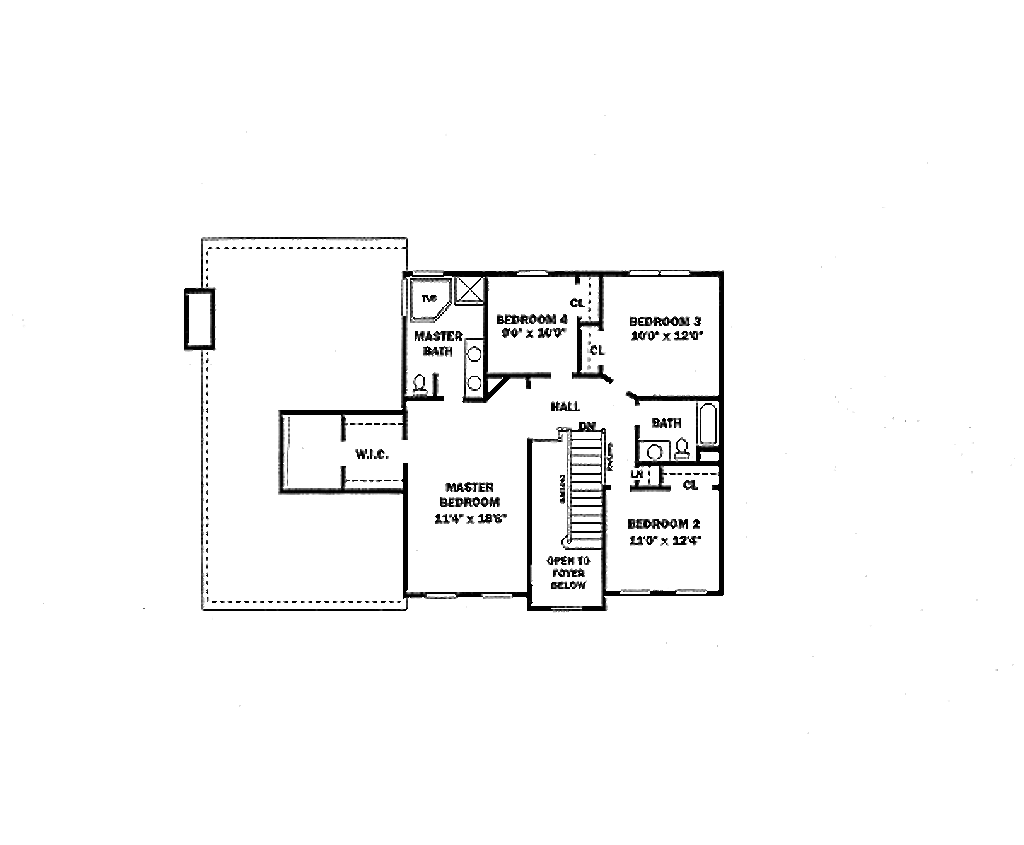large_sink: (403, 369, 432, 401), (669, 437, 696, 467)
small_sink: (461, 334, 489, 402), (632, 439, 673, 464)
stairs: (560, 425, 606, 554)
tub: (692, 394, 717, 451)
window: (626, 266, 694, 282), (420, 586, 460, 601), (512, 266, 550, 278), (610, 586, 655, 596), (670, 585, 710, 596), (480, 590, 517, 601)
